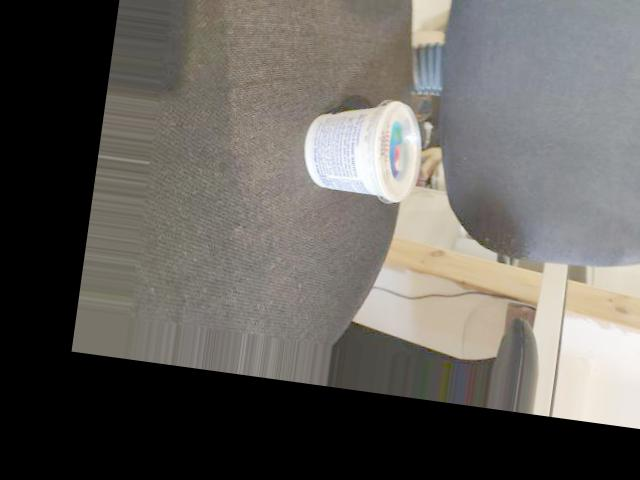cotage: (299, 93, 435, 197)
